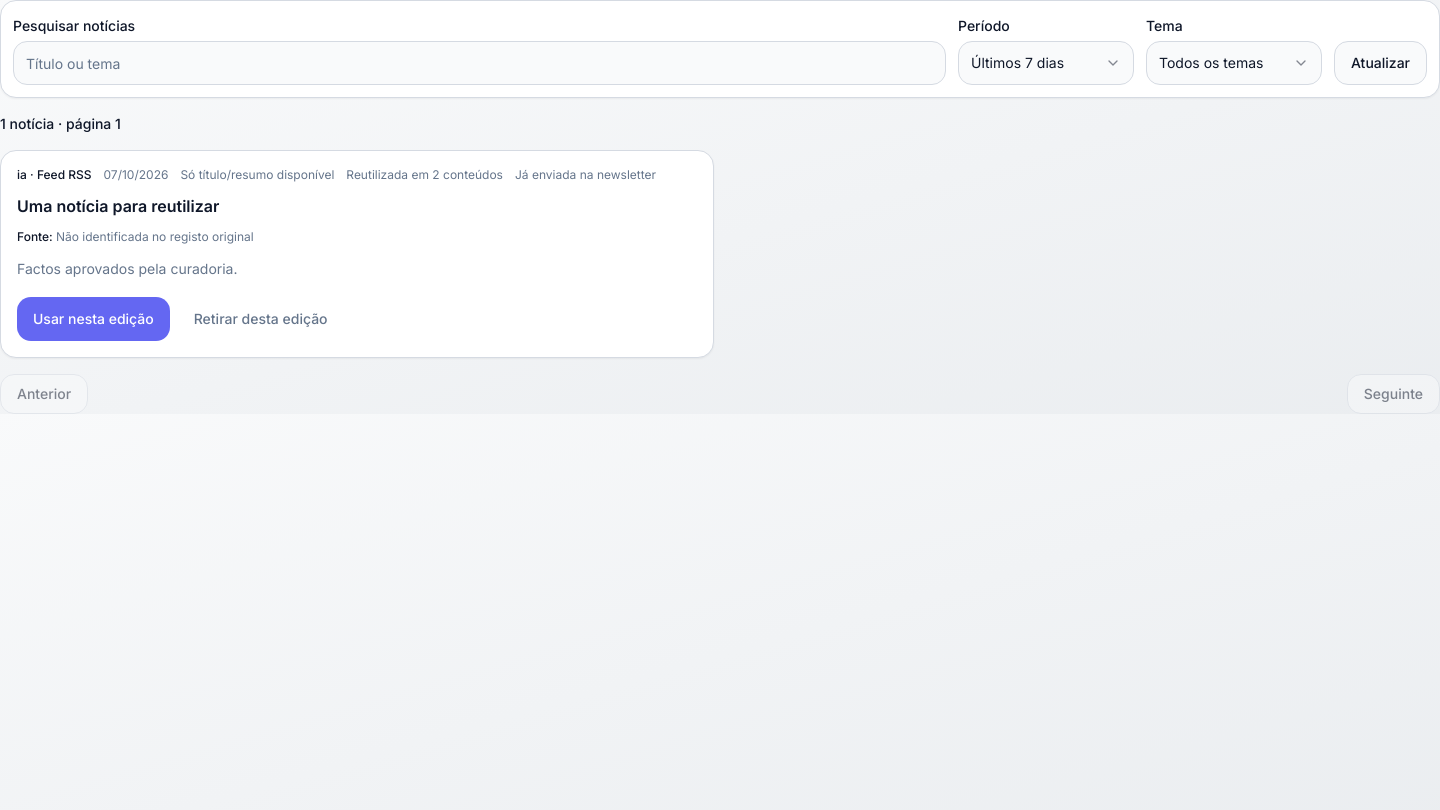
Scenario: curadoria: decisão partilhada e escolha sem geração › retira visualmente uma notícia apenas da edição atual e atualiza a contagem
The width and height of the screenshot is (1440, 810).
Expected: the text "1 notícia · página 1" is shown, [0,114,121,134]
Step 1. Click the button "Retirar desta edição" → (261, 319), box [178,297,344,341]
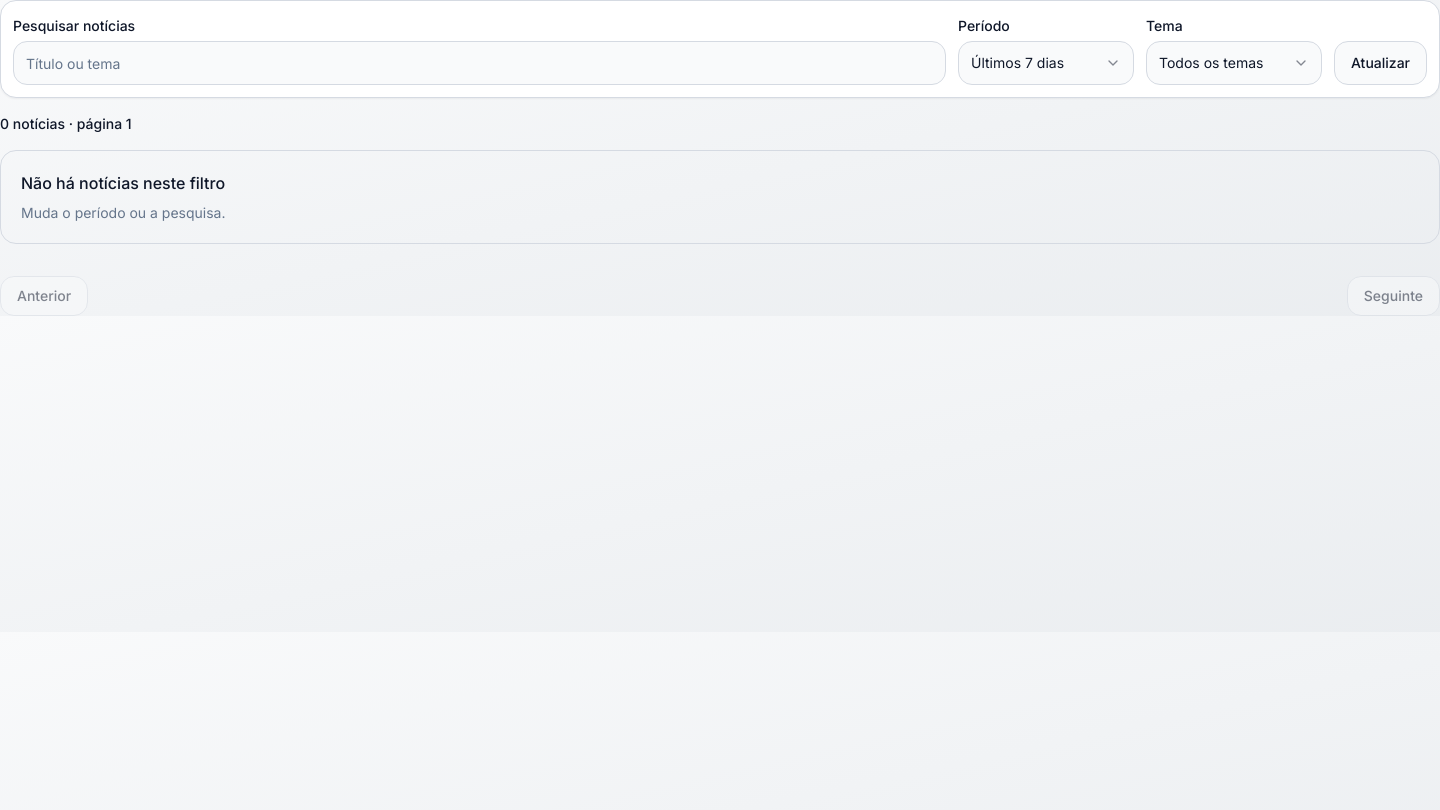
Expected: the heading "Uma notícia para reutilizar" is gone
Expected: the text "0 notícias · página 1" is shown, [0,114,132,134]
